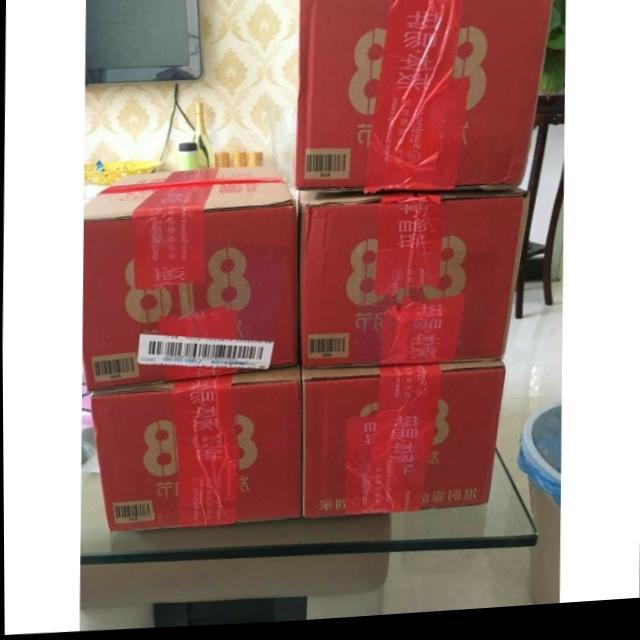box: (295, 0, 554, 195), (81, 170, 300, 393), (297, 194, 529, 373), (89, 366, 301, 533), (301, 366, 504, 522)
